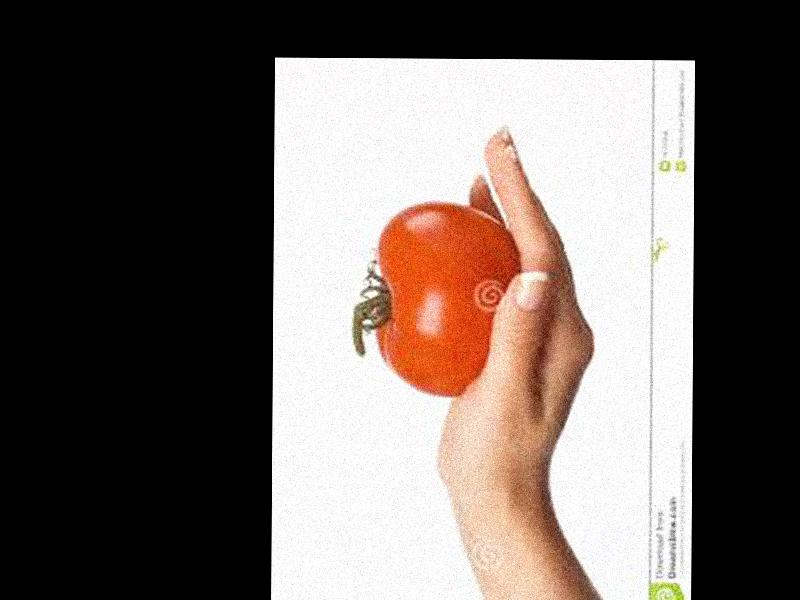Tomato: (375, 202, 520, 397)
